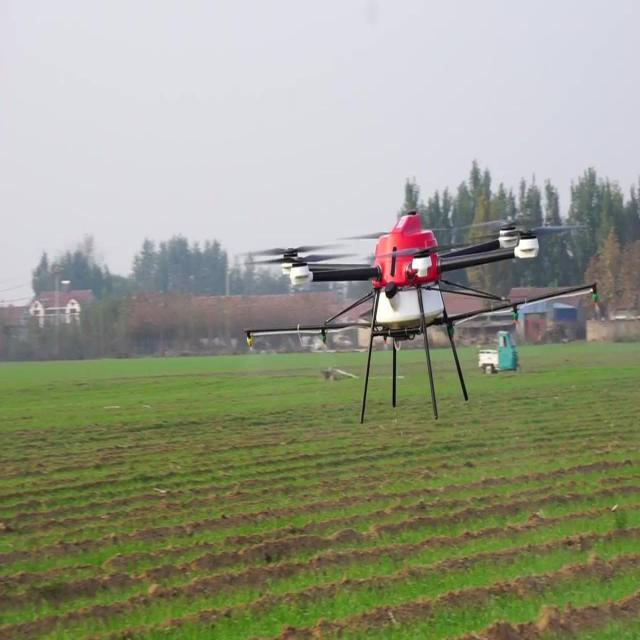UAV: (244, 210, 598, 426)
